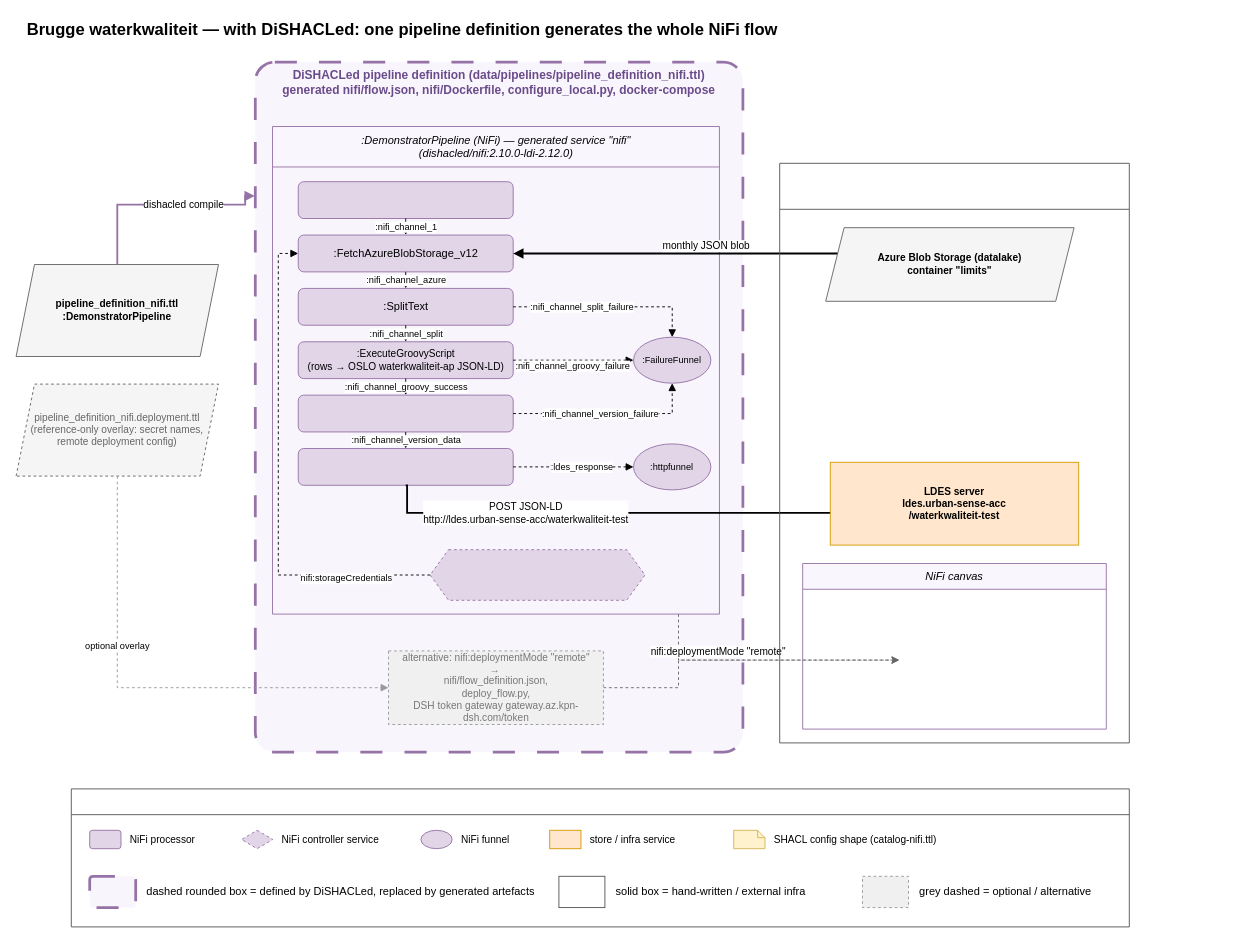
This 1237x943 diagram has some shape labels left out. The box of each missing label's shape, as (x1, y1, x2, y2) in pixels:
:AzureStorageCredentials controller service (SAS_TOKEN): (429, 549, 645, 600)
:CreateVersionObjectProcessor (LDI NiFi processor): (297, 394, 513, 432)
:GenerateFlowFile (10 sec): (297, 181, 513, 218)
:ldessink (InvokeHTTP, POST): (297, 448, 513, 485)
Legend: (70, 788, 1129, 927)
UrbanSense (Azure / KPN DSH): (779, 162, 1129, 743)
